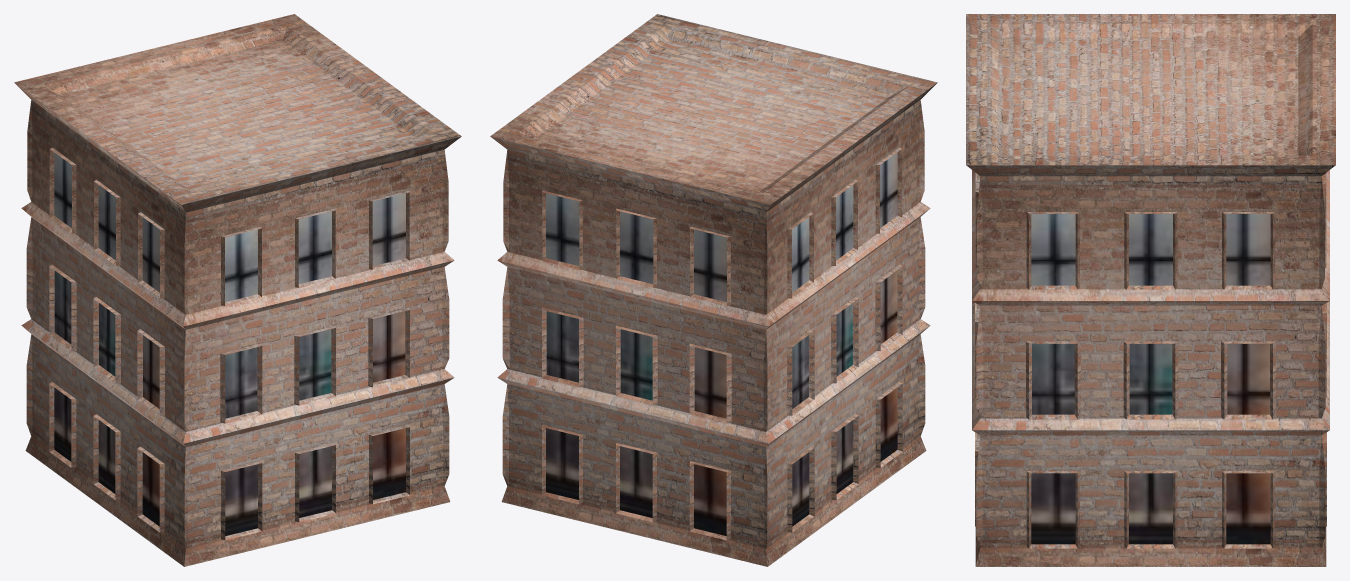
File: Italian Building.fbx
3 views of the same model, side by side, from view 1: azimuth 30°, elevation 25°; view 2: azimuth 150°, elevation 25°; view 3: azimuth 270°, elevation 25° (orthographic). The views are drawn at different scales.
Parts seen in each view (by area): view 1: Box001; view 2: Box001; view 3: Box001.
Boxes of the visible parts, x1,y1,x2,y2 form: Box001: (14,14,461,566); Box001: (490,14,937,566); Box001: (966,14,1335,566).
Bounding box in the file's own units: 64.48 × 80.59 × 66.59.
